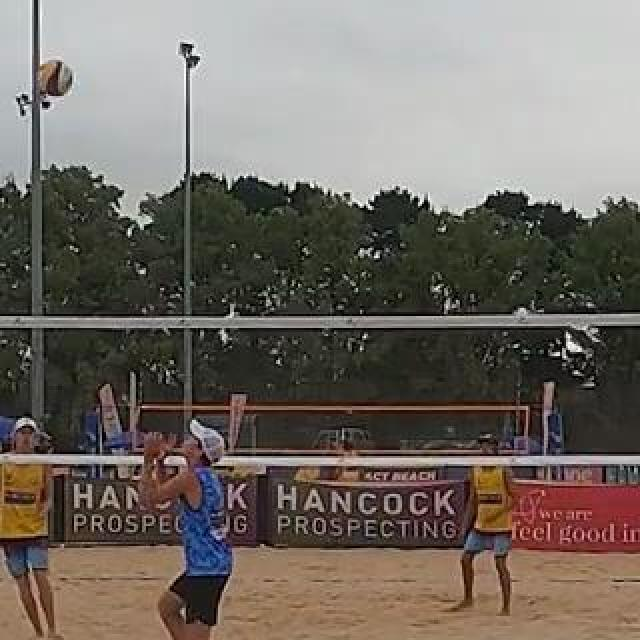volleyball: (40, 59, 74, 97)
